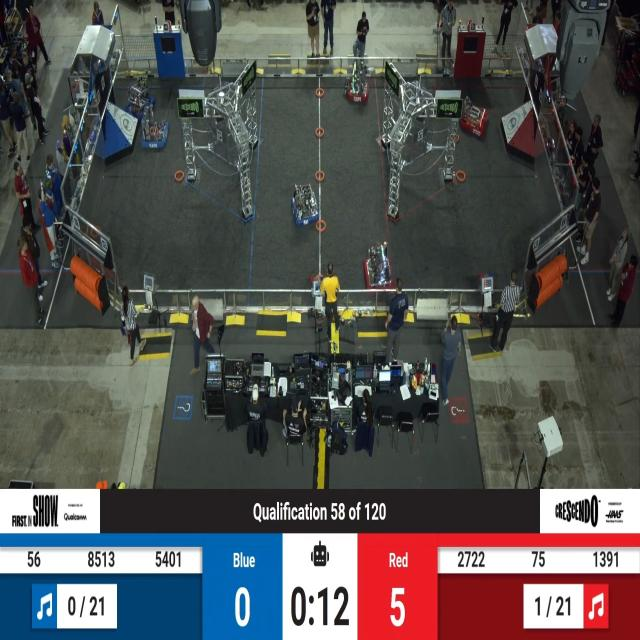Robot: (360, 234, 398, 298), (287, 175, 322, 234), (138, 105, 171, 162), (342, 57, 375, 113), (458, 88, 488, 147), (124, 68, 154, 122)
